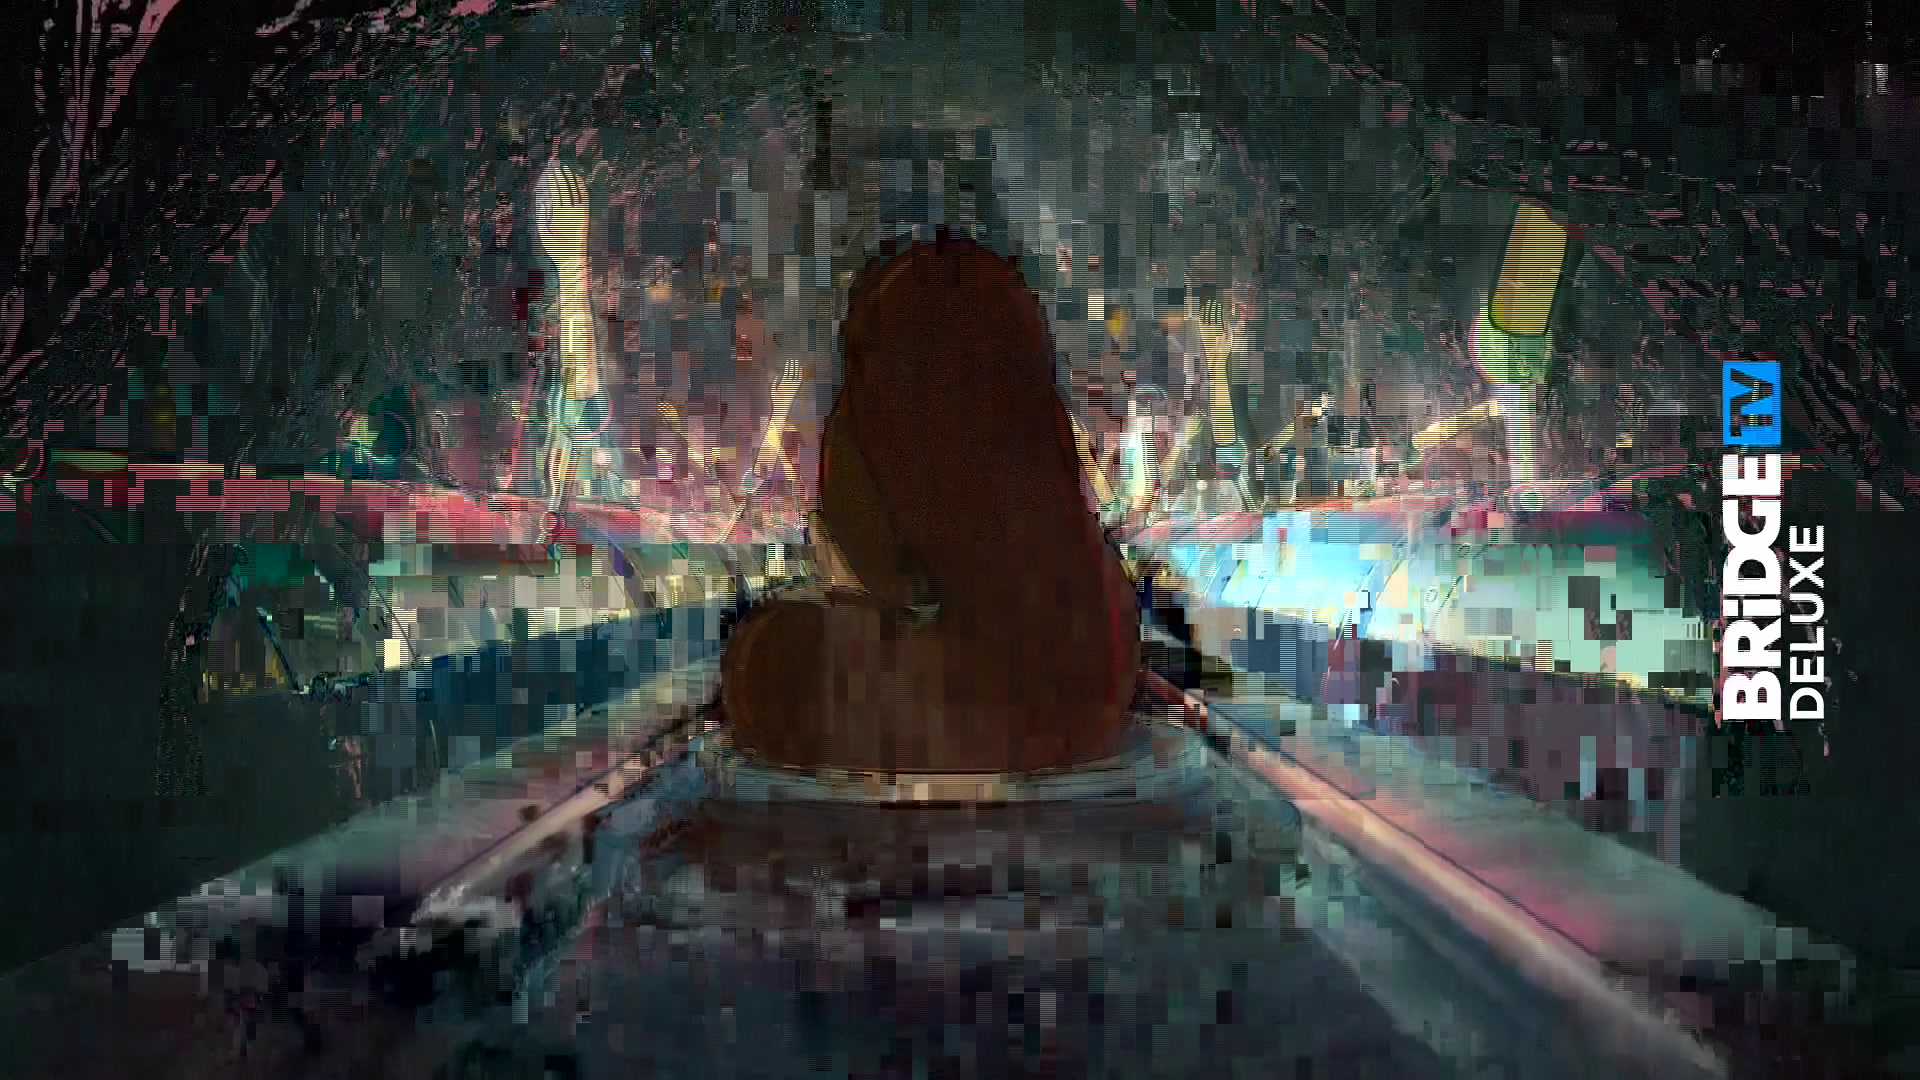Bridge_TV_Deluxe: (1716, 355, 1834, 731)
